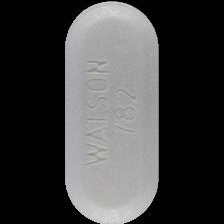55289-368: (0, 0, 224, 224)
